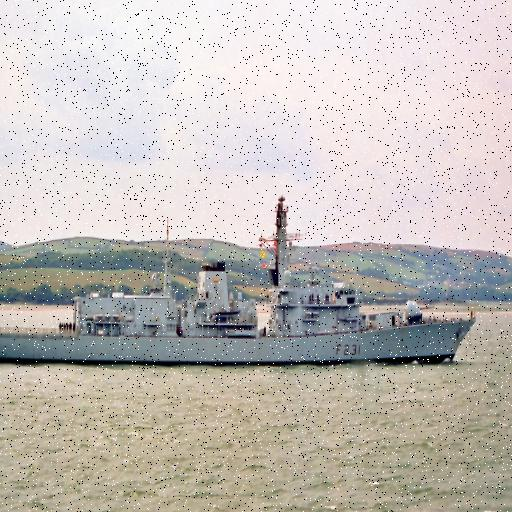Fragata: (1, 186, 480, 366)
